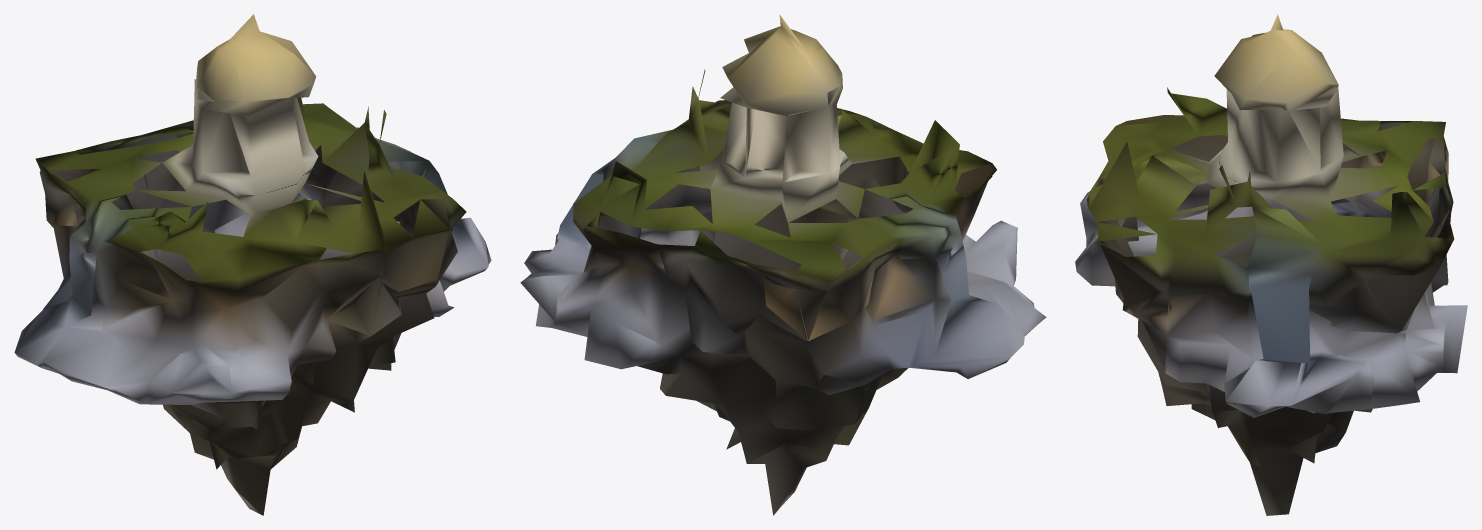
The model's file is landmark_sky-temple.glb.
3 renders of one model, left to right at view 1: azimuth 30°, elevation 25°; view 2: azimuth 150°, elevation 25°; view 3: azimuth 270°, elevation 25°, orthographic.
Visible parts, largest first — view 1: geometry_0; view 2: geometry_0; view 3: geometry_0.
Boxes of the visible parts, x1,y1,x2,y2 form: geometry_0: (14, 14, 491, 515); geometry_0: (520, 14, 1046, 515); geometry_0: (1075, 14, 1467, 515).
Size of the model in its own units: 29.13 by 29.98 by 21.34.
